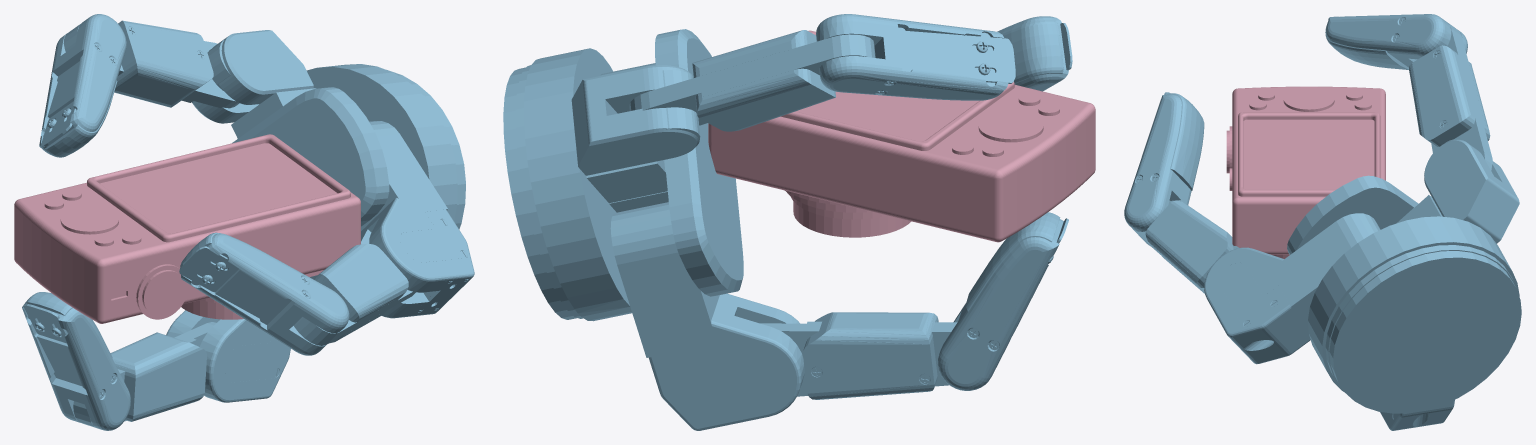
The picture shows the model from 3 angles, left to right: view 1: azimuth 30°, elevation 25°; view 2: azimuth 150°, elevation 25°; view 3: azimuth 270°, elevation 25°; orthographic projection. The views are drawn at different scales.
Parts seen in each view (by area): view 1: world, camera.stl; view 2: world, camera.stl; view 3: world, camera.stl.
Boxes of the visible parts, x1,y1,x2,y2 form: world: [22, 14, 474, 430]; camera.stl: [14, 134, 360, 323]; world: [503, 14, 1072, 430]; camera.stl: [708, 30, 1095, 242]; world: [1124, 14, 1521, 430]; camera.stl: [1226, 86, 1385, 258].
Size of the model in its own units: 0.1932 by 0.1637 by 0.1677.
